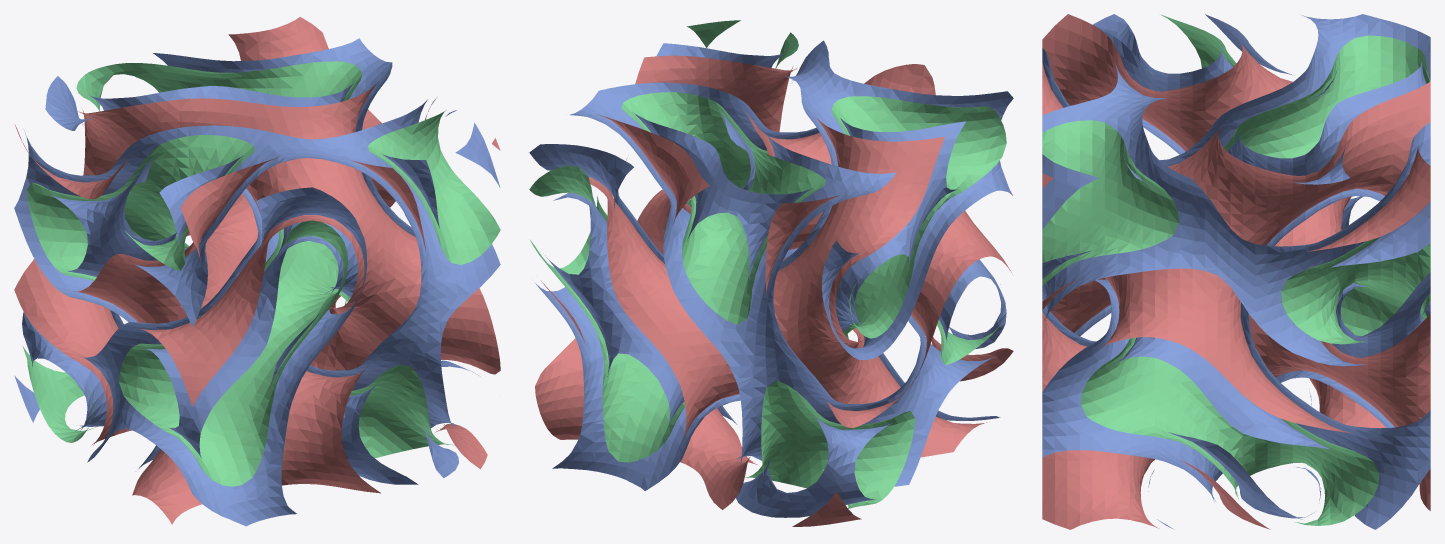
File: doublegyroid.glb
The picture shows the model from 3 angles, left to right: view 1: azimuth 30°, elevation 25°; view 2: azimuth 150°, elevation 25°; view 3: azimuth 270°, elevation 25°; orthographic projection. The views are drawn at different scales.
Visible parts, largest first — view 1: block_2, block_0, block_1; view 2: block_2, block_0, block_1; view 3: block_2, block_0, block_1.
Boxes of the visible parts, x1,y1,x2,y2 form: block_2: (14,38,500,526); block_0: (14,17,500,524); block_1: (22,61,500,486); block_2: (529,40,1013,517); block_0: (535,55,1013,526); block_1: (529,20,1006,508); block_2: (1042,14,1430,529); block_0: (1042,14,1430,529); block_1: (1042,14,1430,525).
Size of the model in its own units: 31 by 31 by 31.
